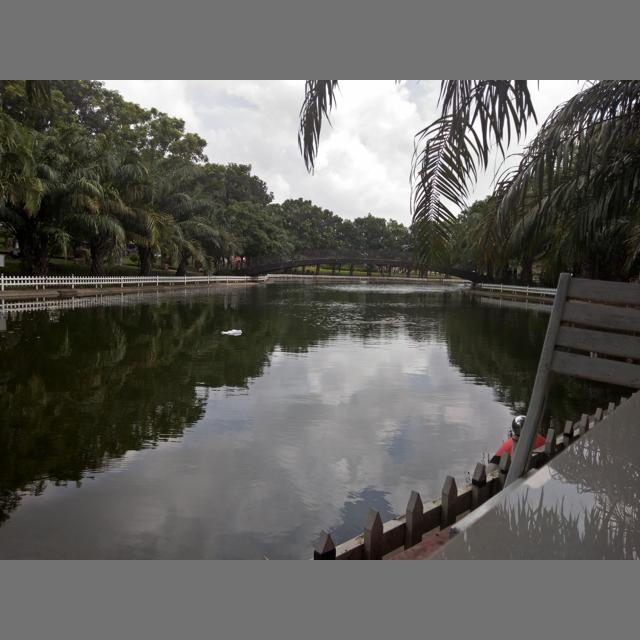litter: (221, 330, 243, 334)
